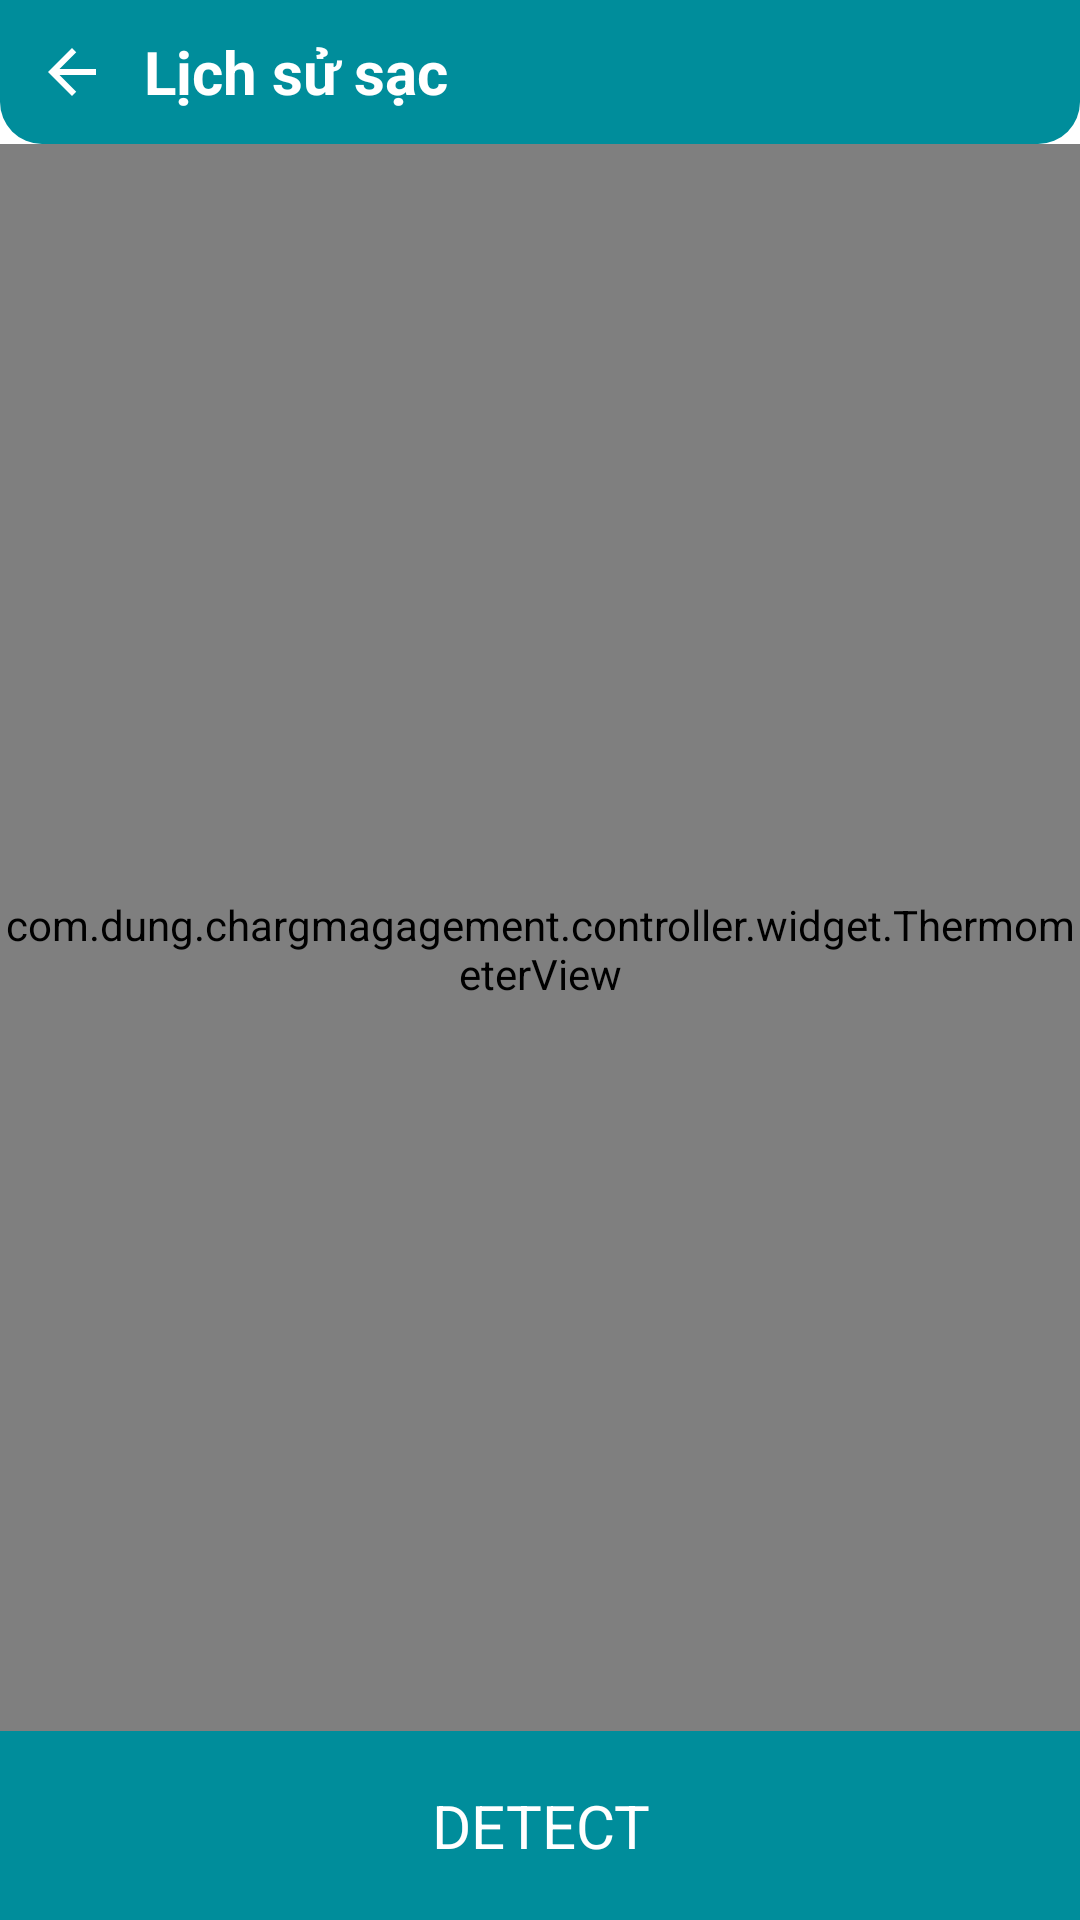

Where to tap for icons on this 1080 × 1920 app screen, as (x,y):
Back: (72,72)
